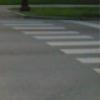crosswalks: (0, 20, 100, 75)
